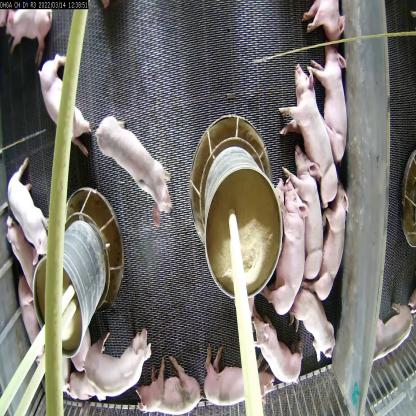Pig: (280, 41, 335, 201), (98, 98, 170, 220), (284, 144, 330, 283), (310, 177, 351, 308), (37, 56, 96, 144), (271, 174, 306, 318), (314, 39, 352, 170), (250, 300, 303, 391), (83, 326, 156, 392), (206, 350, 272, 416), (134, 356, 205, 416), (8, 166, 51, 253), (294, 281, 336, 364), (13, 270, 41, 378)
